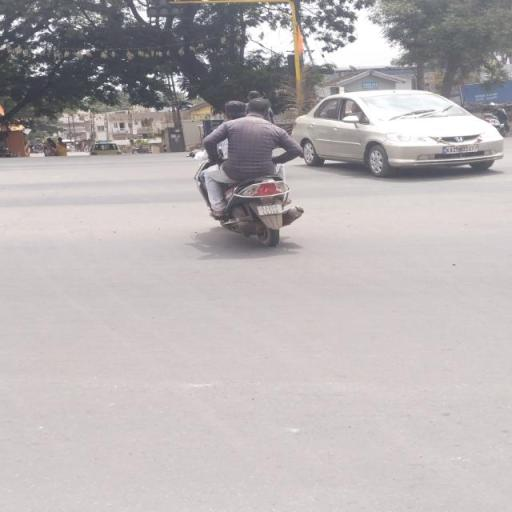bike: (185, 96, 310, 250)
numberplate: (256, 202, 286, 216)
withouthelmet: (247, 98, 271, 116), (222, 102, 248, 116)
